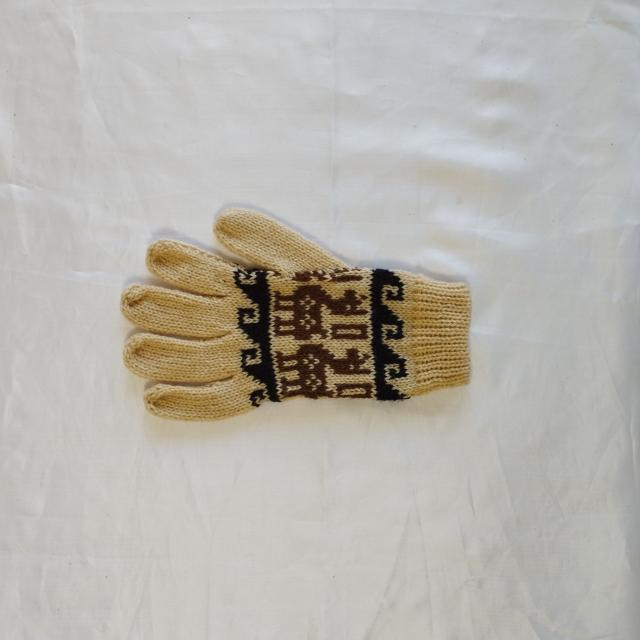Guante: (120, 207, 472, 423)
